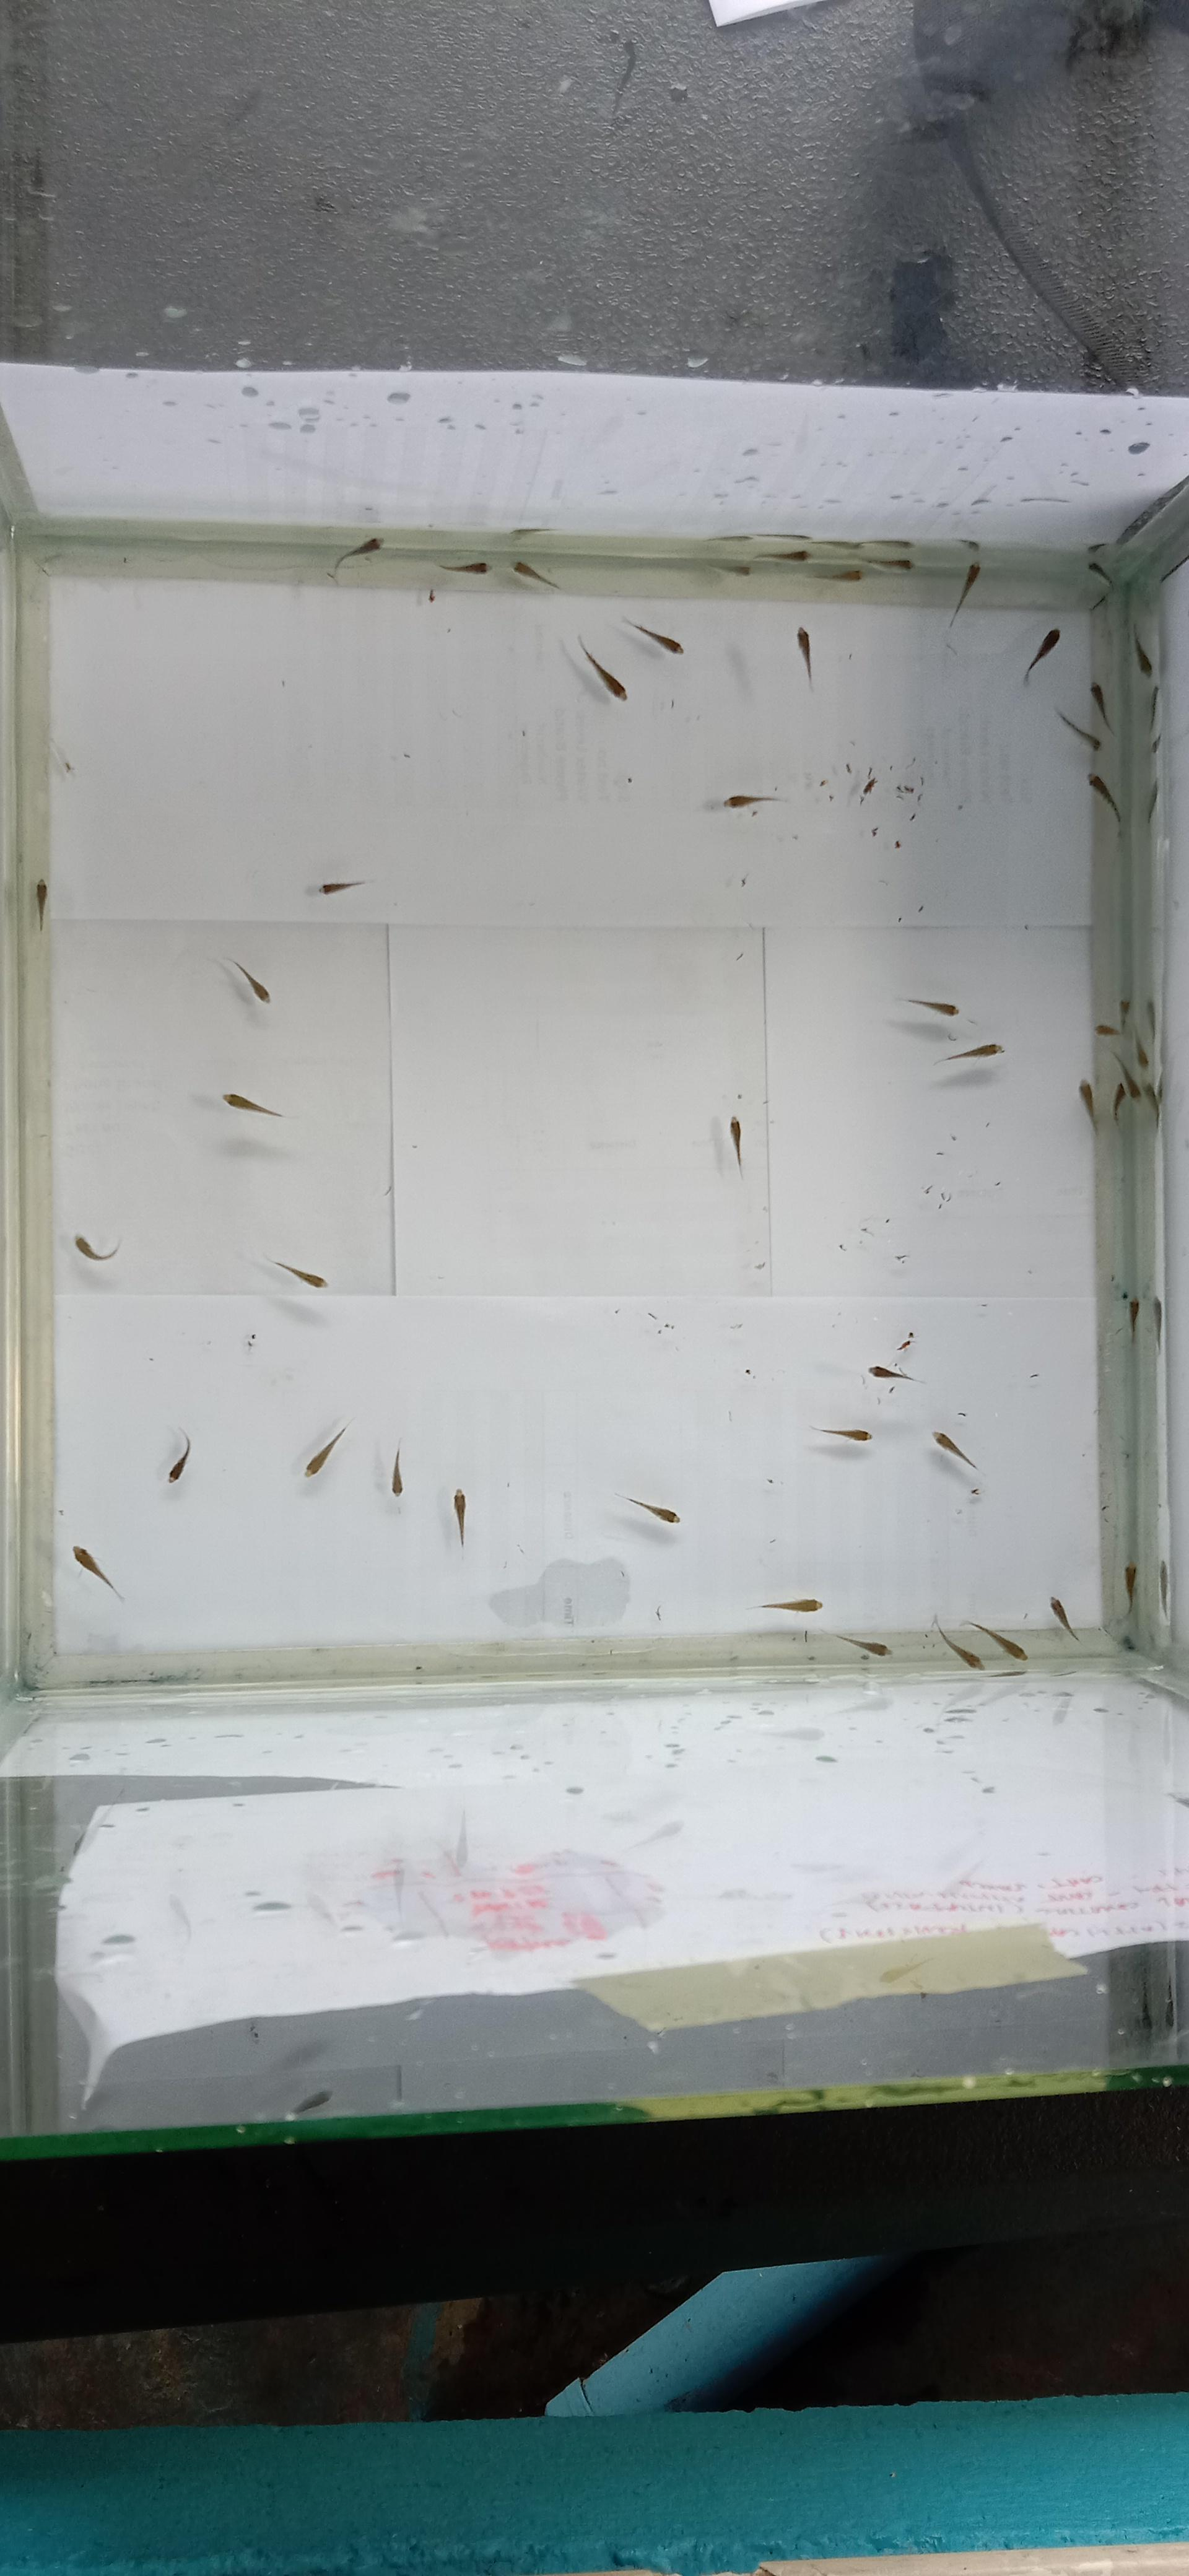fish: (576, 634, 627, 701), (72, 1544, 123, 1603), (931, 1618, 982, 1671), (967, 1620, 1026, 1661), (304, 1424, 348, 1479), (1021, 626, 1061, 685), (622, 616, 683, 654), (948, 562, 980, 628), (227, 956, 271, 1004), (332, 536, 383, 577), (933, 1429, 979, 1472), (1056, 708, 1100, 751), (1086, 772, 1122, 823), (1099, 1042, 1136, 1089), (273, 1258, 327, 1290), (831, 1633, 888, 1661), (622, 1497, 678, 1525), (164, 1428, 192, 1483), (223, 1092, 282, 1119), (934, 1042, 1002, 1065), (1048, 1595, 1079, 1643), (512, 559, 558, 590), (1110, 1056, 1133, 1119), (1145, 736, 1161, 823), (74, 1232, 118, 1262), (1079, 559, 1117, 590), (1089, 680, 1112, 729), (795, 626, 813, 688), (1076, 1079, 1097, 1130), (1145, 687, 1161, 752), (757, 1597, 821, 1613), (905, 997, 957, 1017), (806, 563, 862, 582), (1132, 631, 1153, 677), (813, 1426, 870, 1442), (723, 792, 780, 808), (642, 631, 683, 654), (319, 879, 370, 895), (867, 1364, 913, 1382), (452, 1488, 466, 1544), (728, 1115, 742, 1170), (1140, 1081, 1159, 1120), (1110, 1081, 1128, 1122), (389, 1447, 404, 1497), (760, 547, 810, 562), (1143, 780, 1159, 823), (1122, 1564, 1138, 1607), (705, 562, 751, 577), (438, 560, 489, 573), (869, 557, 913, 572), (34, 881, 48, 930), (854, 1640, 888, 1658), (1123, 1295, 1140, 1329), (1117, 996, 1132, 1028), (834, 567, 862, 582), (1094, 1022, 1118, 1037)
